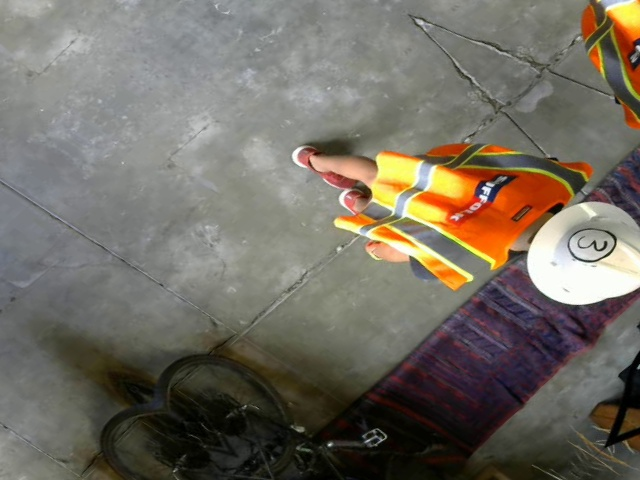three: (558, 219, 624, 270)
